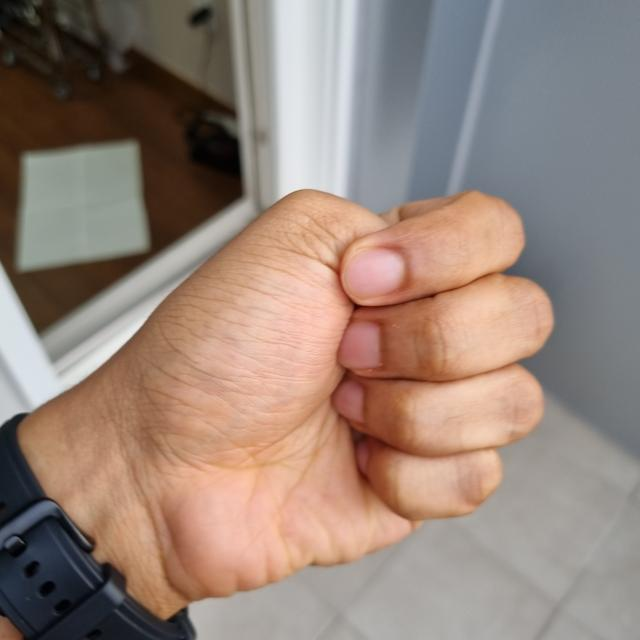Rock: (19, 187, 553, 595)
